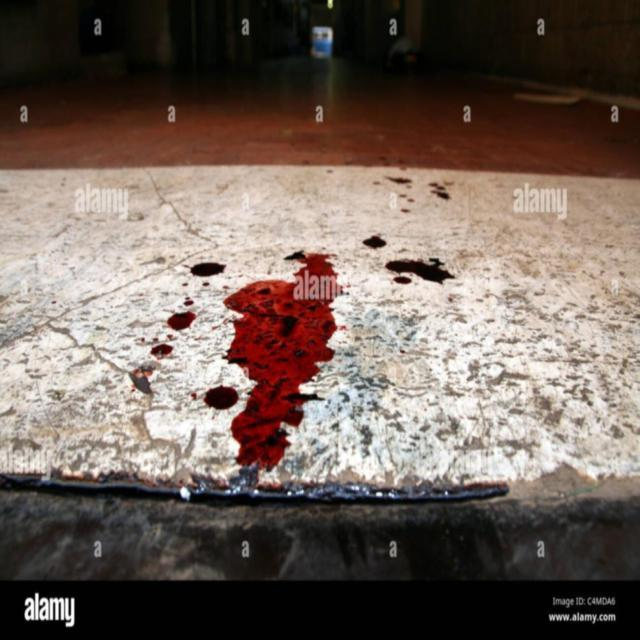flood: (238, 274, 326, 476)
